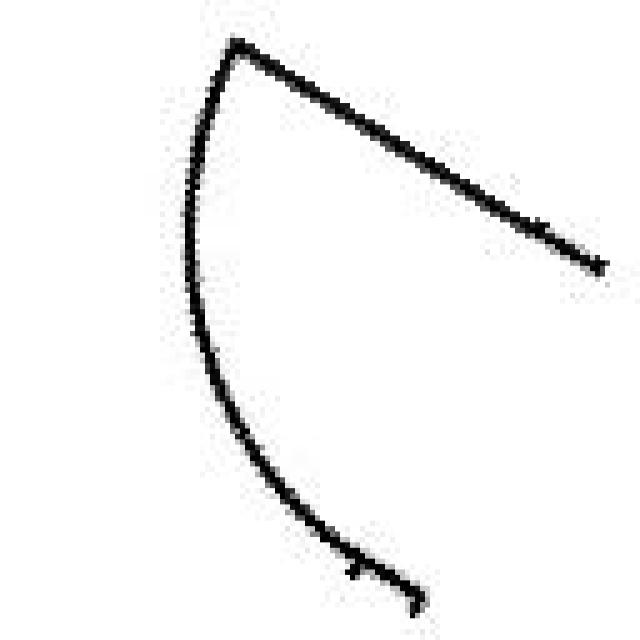door: (170, 27, 605, 602)
